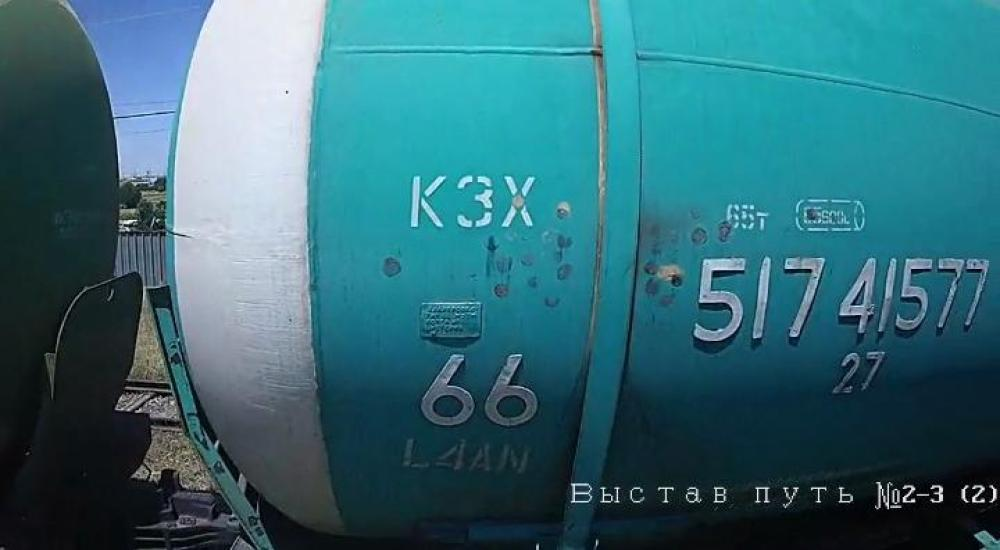Wagon-number: (687, 250, 997, 352)
